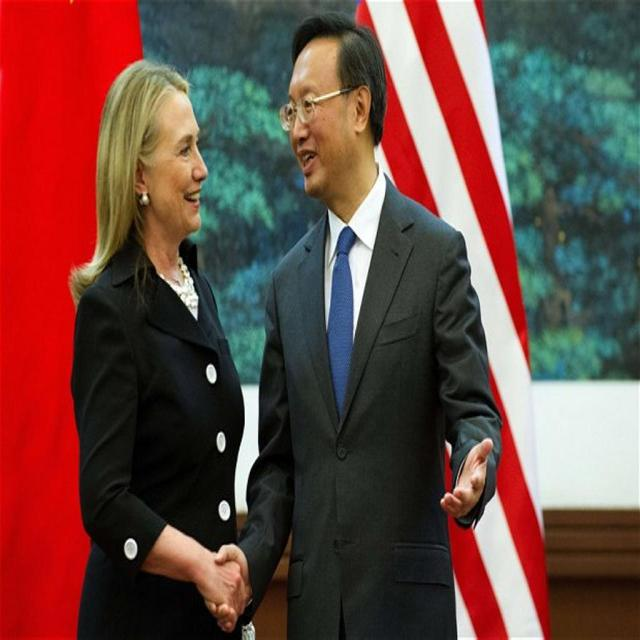Face: (279, 47, 365, 205), (155, 84, 212, 255)
